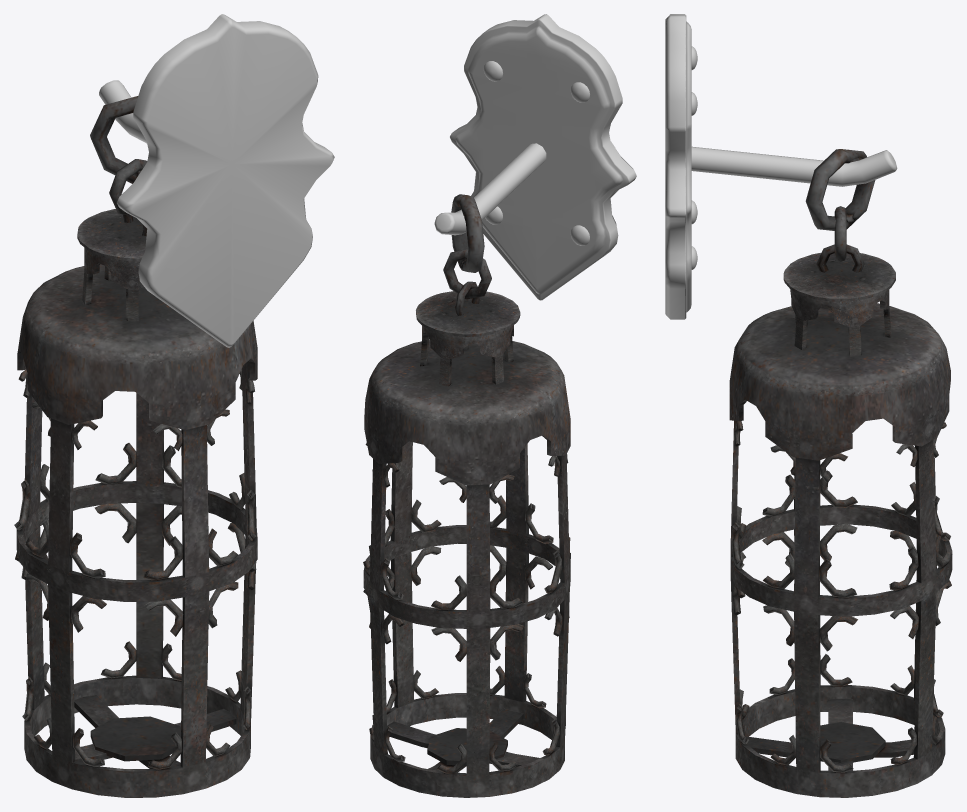
File: SM_Lantern_01_02.fbx
The picture shows the model from 3 angles, left to right: view 1: azimuth 30°, elevation 25°; view 2: azimuth 150°, elevation 25°; view 3: azimuth 270°, elevation 25°; orthographic projection. The views are drawn at different scales.
Parts seen in each view (by area): view 1: sm_Lantern_01_02_LOD0; view 2: sm_Lantern_01_02_LOD0; view 3: sm_Lantern_01_02_LOD0.
Boxes of the visible parts, <box> form: sm_Lantern_01_02_LOD0: <box>14,14,334,797</box>; sm_Lantern_01_02_LOD0: <box>363,14,636,797</box>; sm_Lantern_01_02_LOD0: <box>665,14,952,797</box>.
Size of the model in its own units: 26.72 by 21.01 by 75.76.
